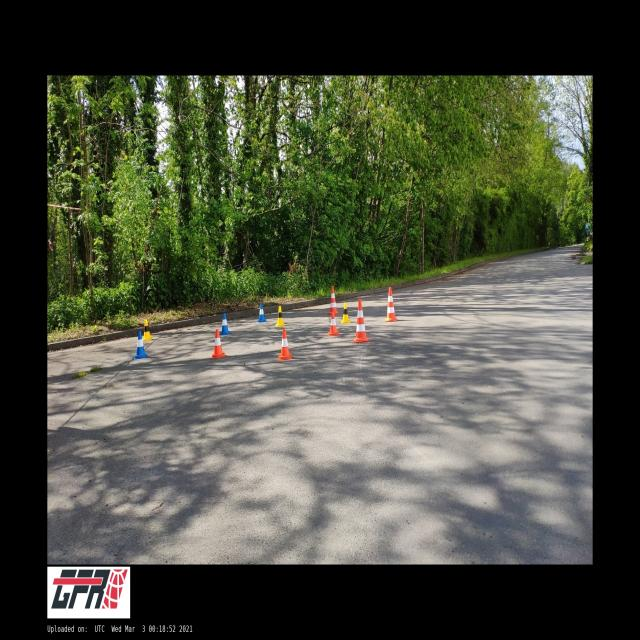blue_cone: (134, 331, 148, 359), (220, 314, 231, 334), (256, 303, 267, 322)
large_orange_cone: (353, 299, 369, 343), (385, 287, 397, 321), (327, 286, 340, 314)
orange_cone: (211, 329, 227, 358), (278, 329, 292, 360), (328, 312, 339, 335)
yellow_cone: (143, 319, 153, 341), (275, 306, 286, 326), (341, 302, 351, 324)
